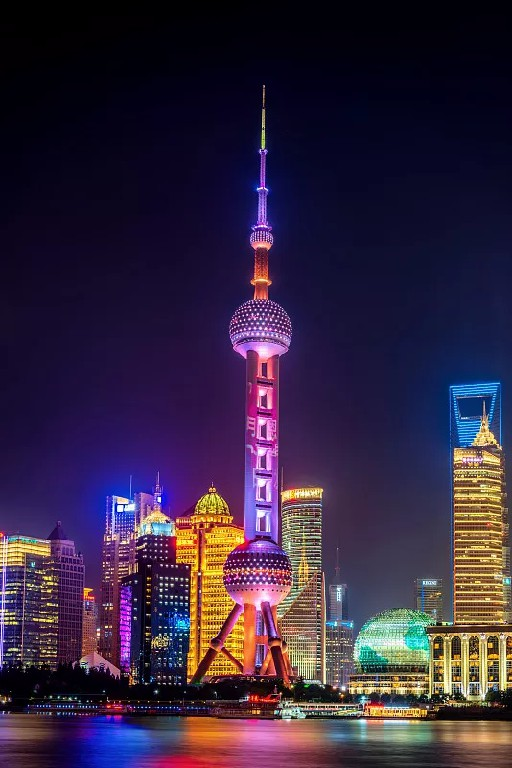Oriental: (186, 82, 303, 688)
